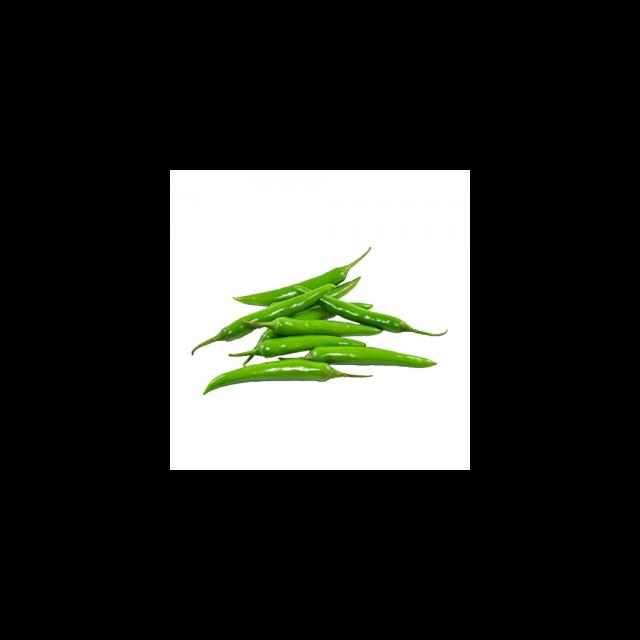chili_pepper: (194, 285, 335, 352), (319, 295, 448, 336), (203, 360, 344, 394), (229, 336, 366, 358), (296, 250, 370, 290), (306, 347, 438, 368), (250, 317, 383, 336), (234, 286, 298, 306)
